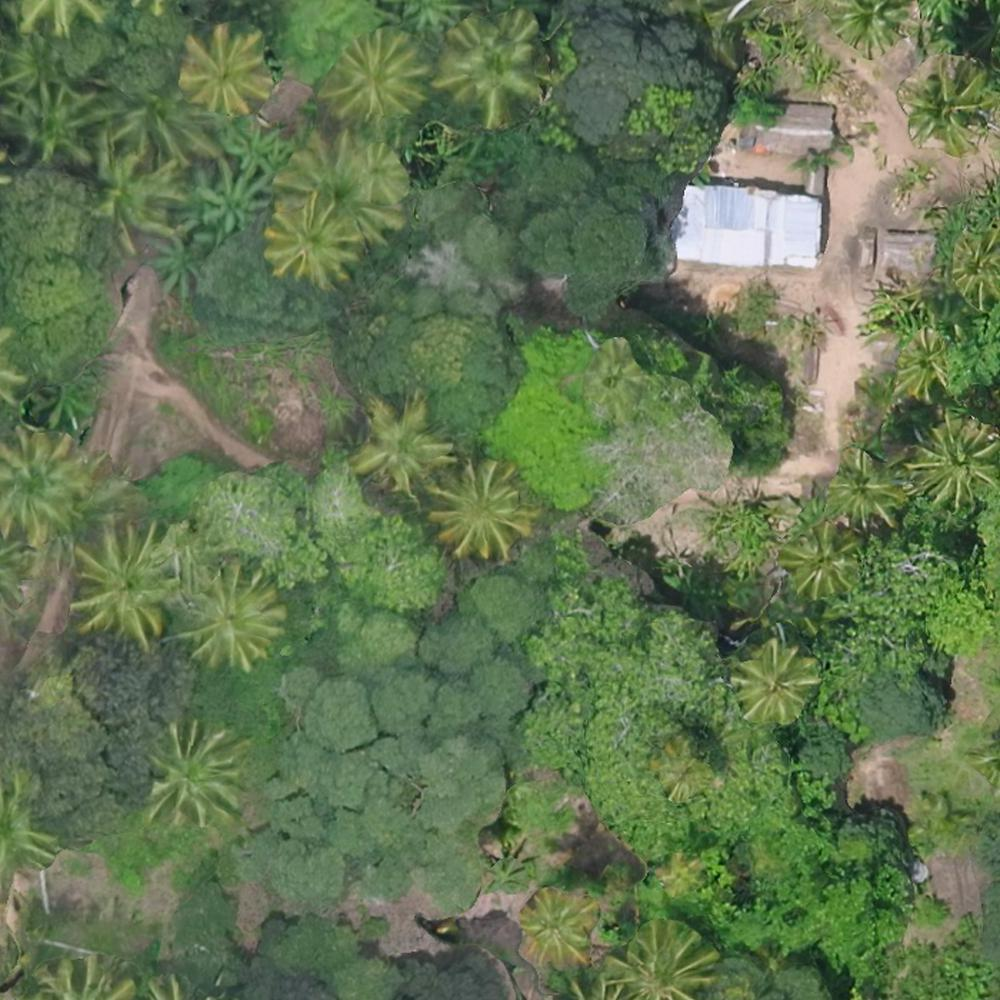Palm: (76, 524, 179, 639), (180, 563, 282, 667), (429, 457, 536, 556), (440, 17, 544, 113), (1, 431, 91, 541), (145, 724, 241, 824), (346, 394, 442, 492), (176, 27, 275, 116), (324, 34, 420, 118), (263, 199, 353, 288), (907, 62, 988, 150), (612, 923, 703, 1000), (914, 422, 993, 507), (736, 647, 817, 723), (514, 886, 588, 963), (782, 526, 861, 598), (832, 459, 905, 521), (348, 139, 416, 198)
